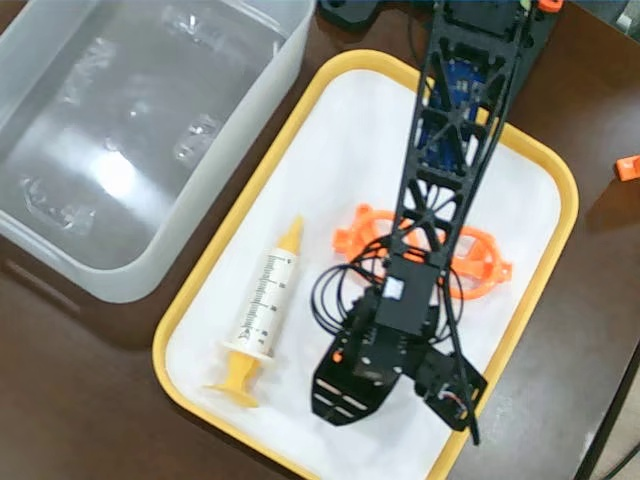syringe: (201, 213, 305, 405)
